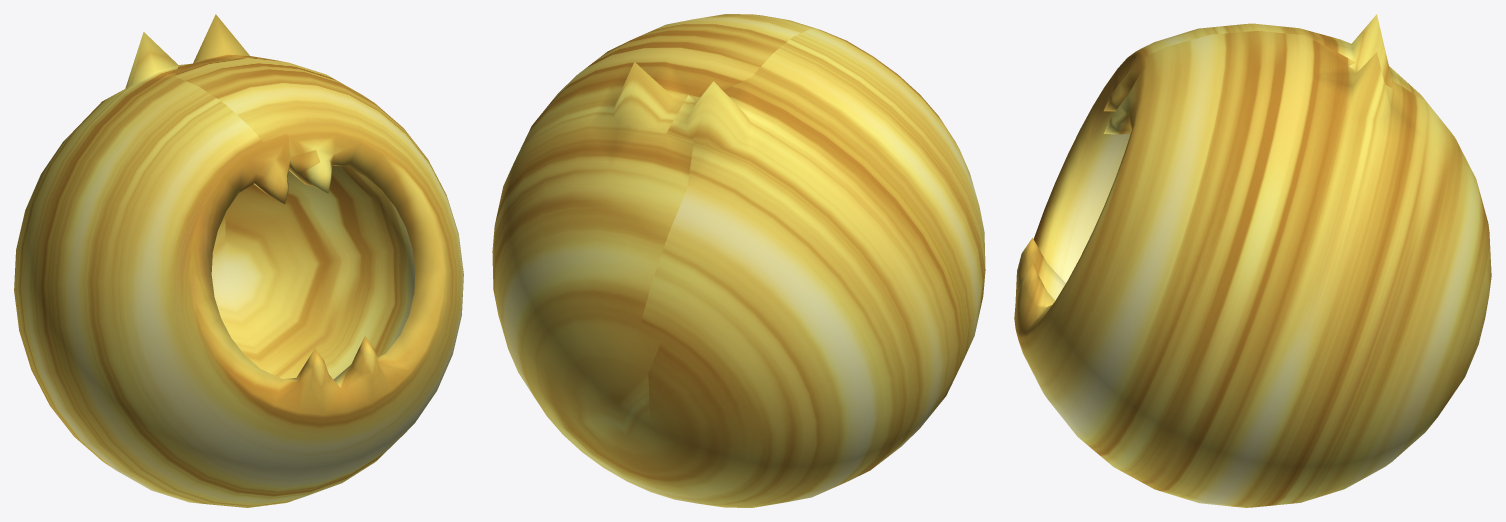
File: PC_Bcat_mesh.FBX
3 renders of one model, left to right at view 1: azimuth 30°, elevation 25°; view 2: azimuth 150°, elevation 25°; view 3: azimuth 270°, elevation 25°, orthographic. The views are drawn at different scales.
Parts seen in each view (by area): view 1: PC_Bcat_mesh; view 2: PC_Bcat_mesh; view 3: PC_Bcat_mesh.
Boxes of the visible parts, x1,y1,x2,y2 form: PC_Bcat_mesh: (14, 14, 463, 507); PC_Bcat_mesh: (492, 14, 985, 507); PC_Bcat_mesh: (1014, 14, 1491, 507).
Bounding box in the file's own units: 1.08 × 1.11 × 1.06.
